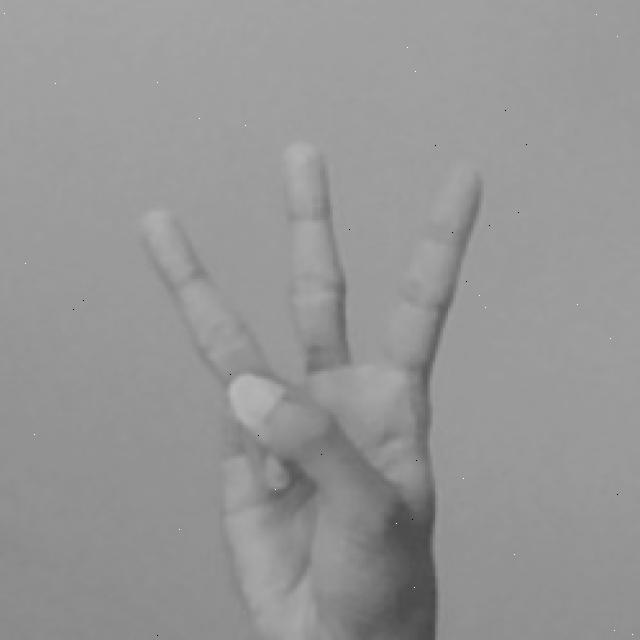W: (128, 130, 489, 640)
